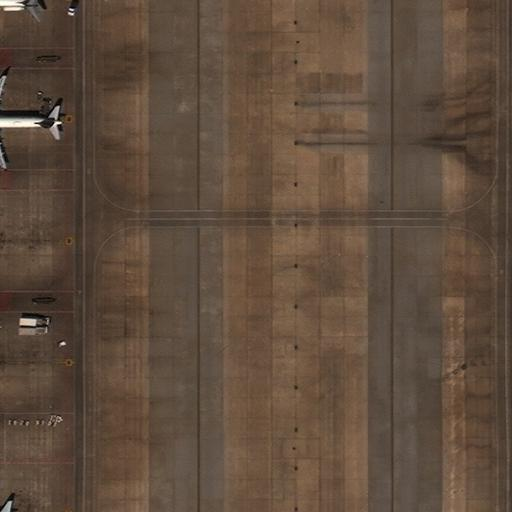Medium Civil Transport: (0, 75, 65, 169), (0, 0, 40, 41)
